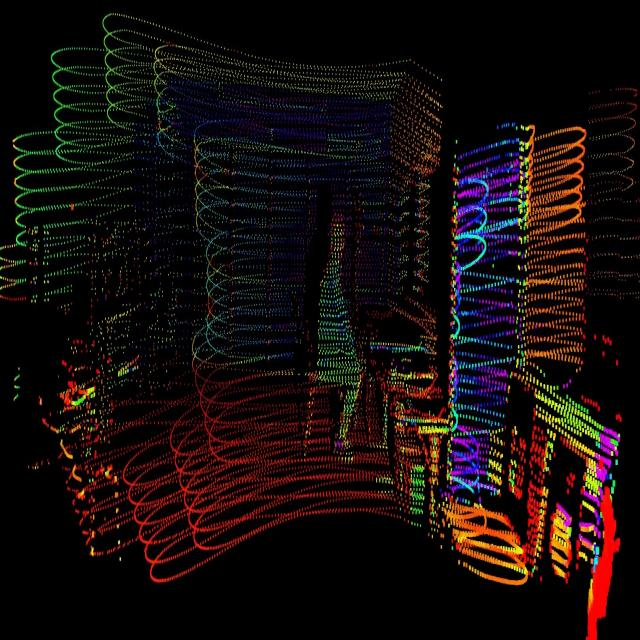human: (314, 207, 366, 468)
